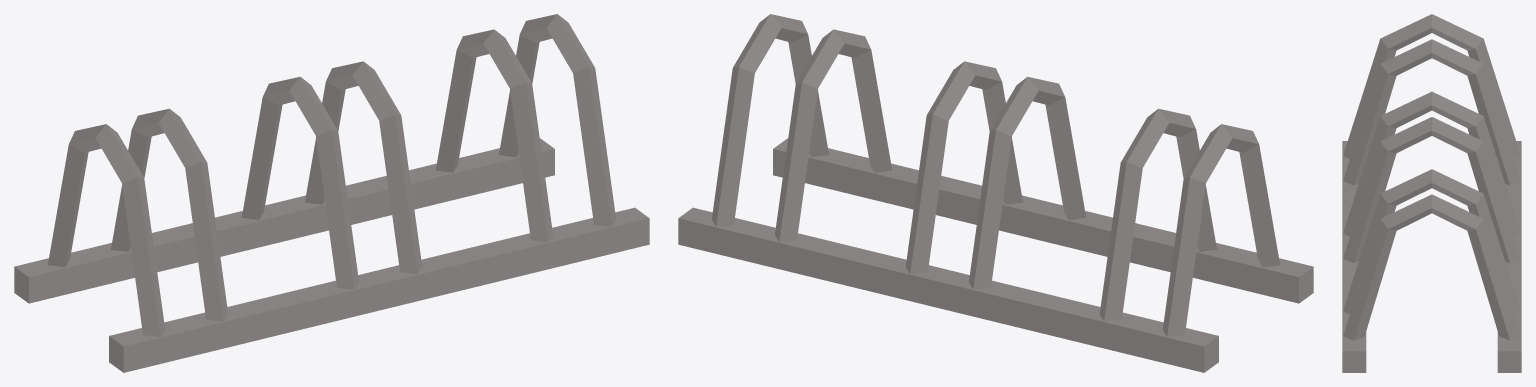
File: bike-stand.glb
3 renders of one model, left to right at view 1: azimuth 30°, elevation 25°; view 2: azimuth 150°, elevation 25°; view 3: azimuth 270°, elevation 25°, orthographic. The views are drawn at different scales.
Parts seen in each view (by area): view 1: bike-stand; view 2: bike-stand; view 3: bike-stand.
Part boxes in pixels (x1,y1,x2,y2): bike-stand: (14, 14, 649, 372); bike-stand: (678, 14, 1313, 372); bike-stand: (1342, 14, 1521, 372).
Size of the model in its own units: 1.1 by 0.3994 by 0.396.
Materials: 1 (1 with a texture image).
